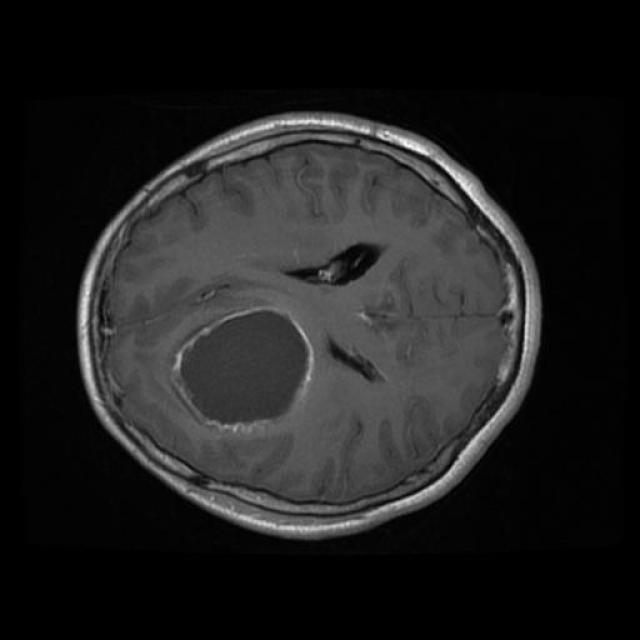Glioma: (173, 307, 314, 427)
